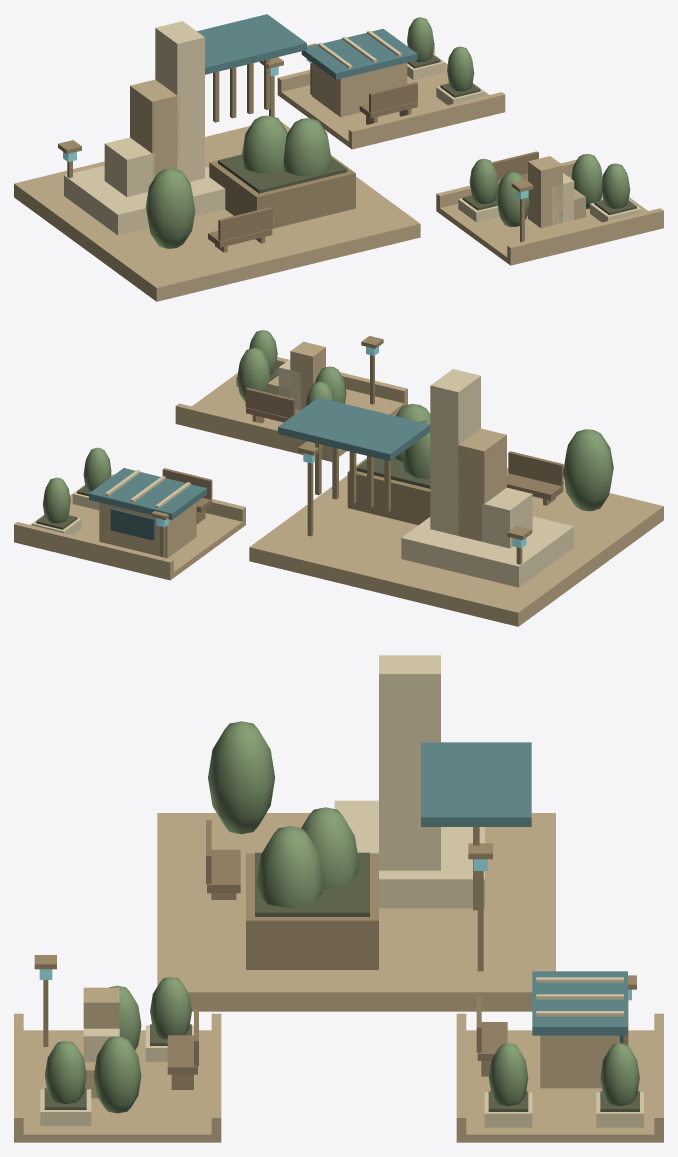
File: anubis.glb
3 views of the same model, one above another, from view 1: azimuth 30°, elevation 25°; view 2: azimuth 150°, elevation 25°; view 3: azimuth 270°, elevation 25° (orthographic). The views are drawn at different scales.
Parts seen in each view (by area): view 1: ARENA stone (×15), ARENA paving (×3), ARENA leaves (×9), ARENA canopy (×2), ARENA wood (×4), ARENA wall, ARENA soil; view 2: ARENA stone (×11), ARENA paving (×3), ARENA leaves (×8), ARENA canopy (×2), ARENA wood (×4), ARENA wall, ARENA window, ARENA soil, ARENA metal; view 3: ARENA paving (×3), ARENA stone (×12), ARENA leaves (×9), ARENA canopy (×2), ARENA wall, ARENA wood (×3), ARENA soil, ARENA metal.
Boxes of the visible parts, x1,y1,x2,y2 form: ARENA stone (×15): (64, 21, 663, 261); ARENA paving (×3): (14, 55, 663, 301); ARENA leaves (×9): (145, 17, 630, 248); ARENA canopy (×2): (197, 14, 417, 79); ARENA wood (×4): (208, 82, 538, 247); ARENA wall: (312, 62, 407, 117); ARENA soil: (218, 154, 347, 193); ARENA stone (×11): (14, 341, 573, 587); ARENA paving (×3): (14, 373, 663, 626); ARENA leaves (×8): (43, 330, 613, 523); ARENA canopy (×2): (89, 397, 430, 519); ARENA wood (×4): (162, 387, 563, 500); ARENA wall: (99, 502, 196, 558); ARENA window: (110, 508, 154, 540); ARENA soil: (356, 457, 430, 488); ARENA metal: (307, 462, 313, 536); ARENA paving (×3): (14, 813, 663, 1142); ARENA stone (×12): (14, 655, 663, 1138); ARENA leaves (×9): (45, 721, 639, 1113); ARENA canopy (×2): (421, 742, 627, 1035); ARENA wall: (540, 1035, 619, 1088); ARENA wood (×3): (167, 849, 507, 1074); ARENA soil: (255, 852, 369, 916); ARENA metal: (477, 871, 483, 971).
Bounding box in the file's own units: 8.3 × 3.05 × 7.34.
